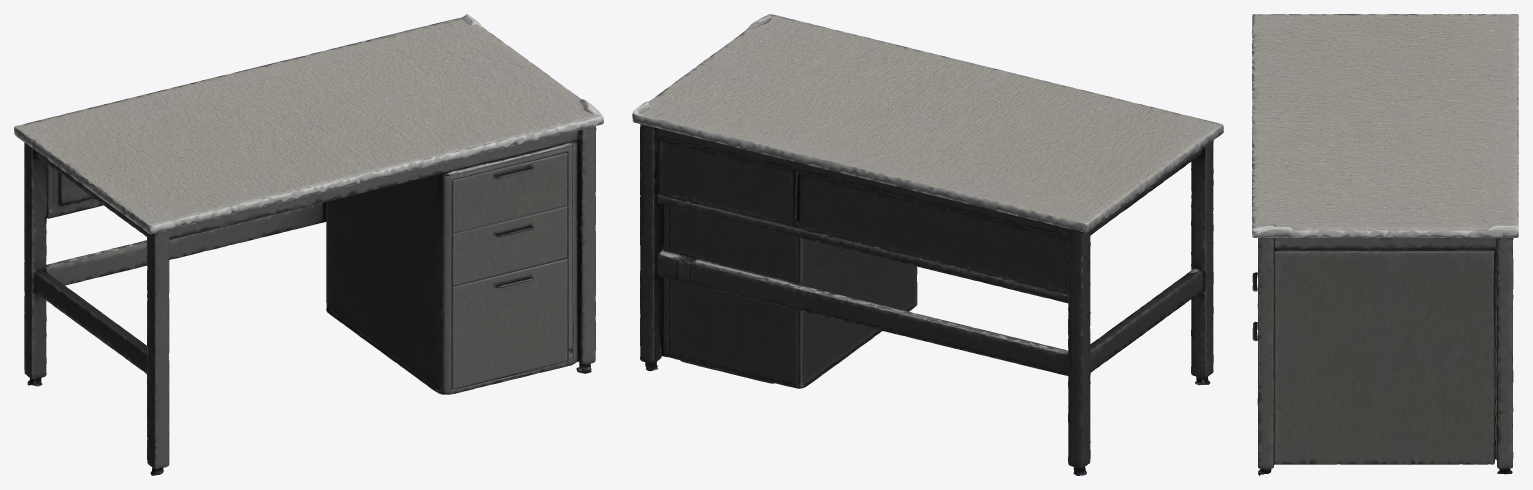
Rendered from OfficeDesk.glb.
3 views of the same model, side by side, from view 1: azimuth 30°, elevation 25°; view 2: azimuth 150°, elevation 25°; view 3: azimuth 270°, elevation 25° (orthographic). The views are drawn at different scales.
Visible parts, largest first — view 1: texture_mapping; view 2: texture_mapping; view 3: texture_mapping.
Part boxes in pixels (<box>): texture_mapping: <box>14,14,603,475</box>; texture_mapping: <box>632,14,1223,475</box>; texture_mapping: <box>1252,14,1518,475</box>.
Size of the model in its own units: 0.9974 by 0.5441 by 0.5191.
1 material, 1 textured.
